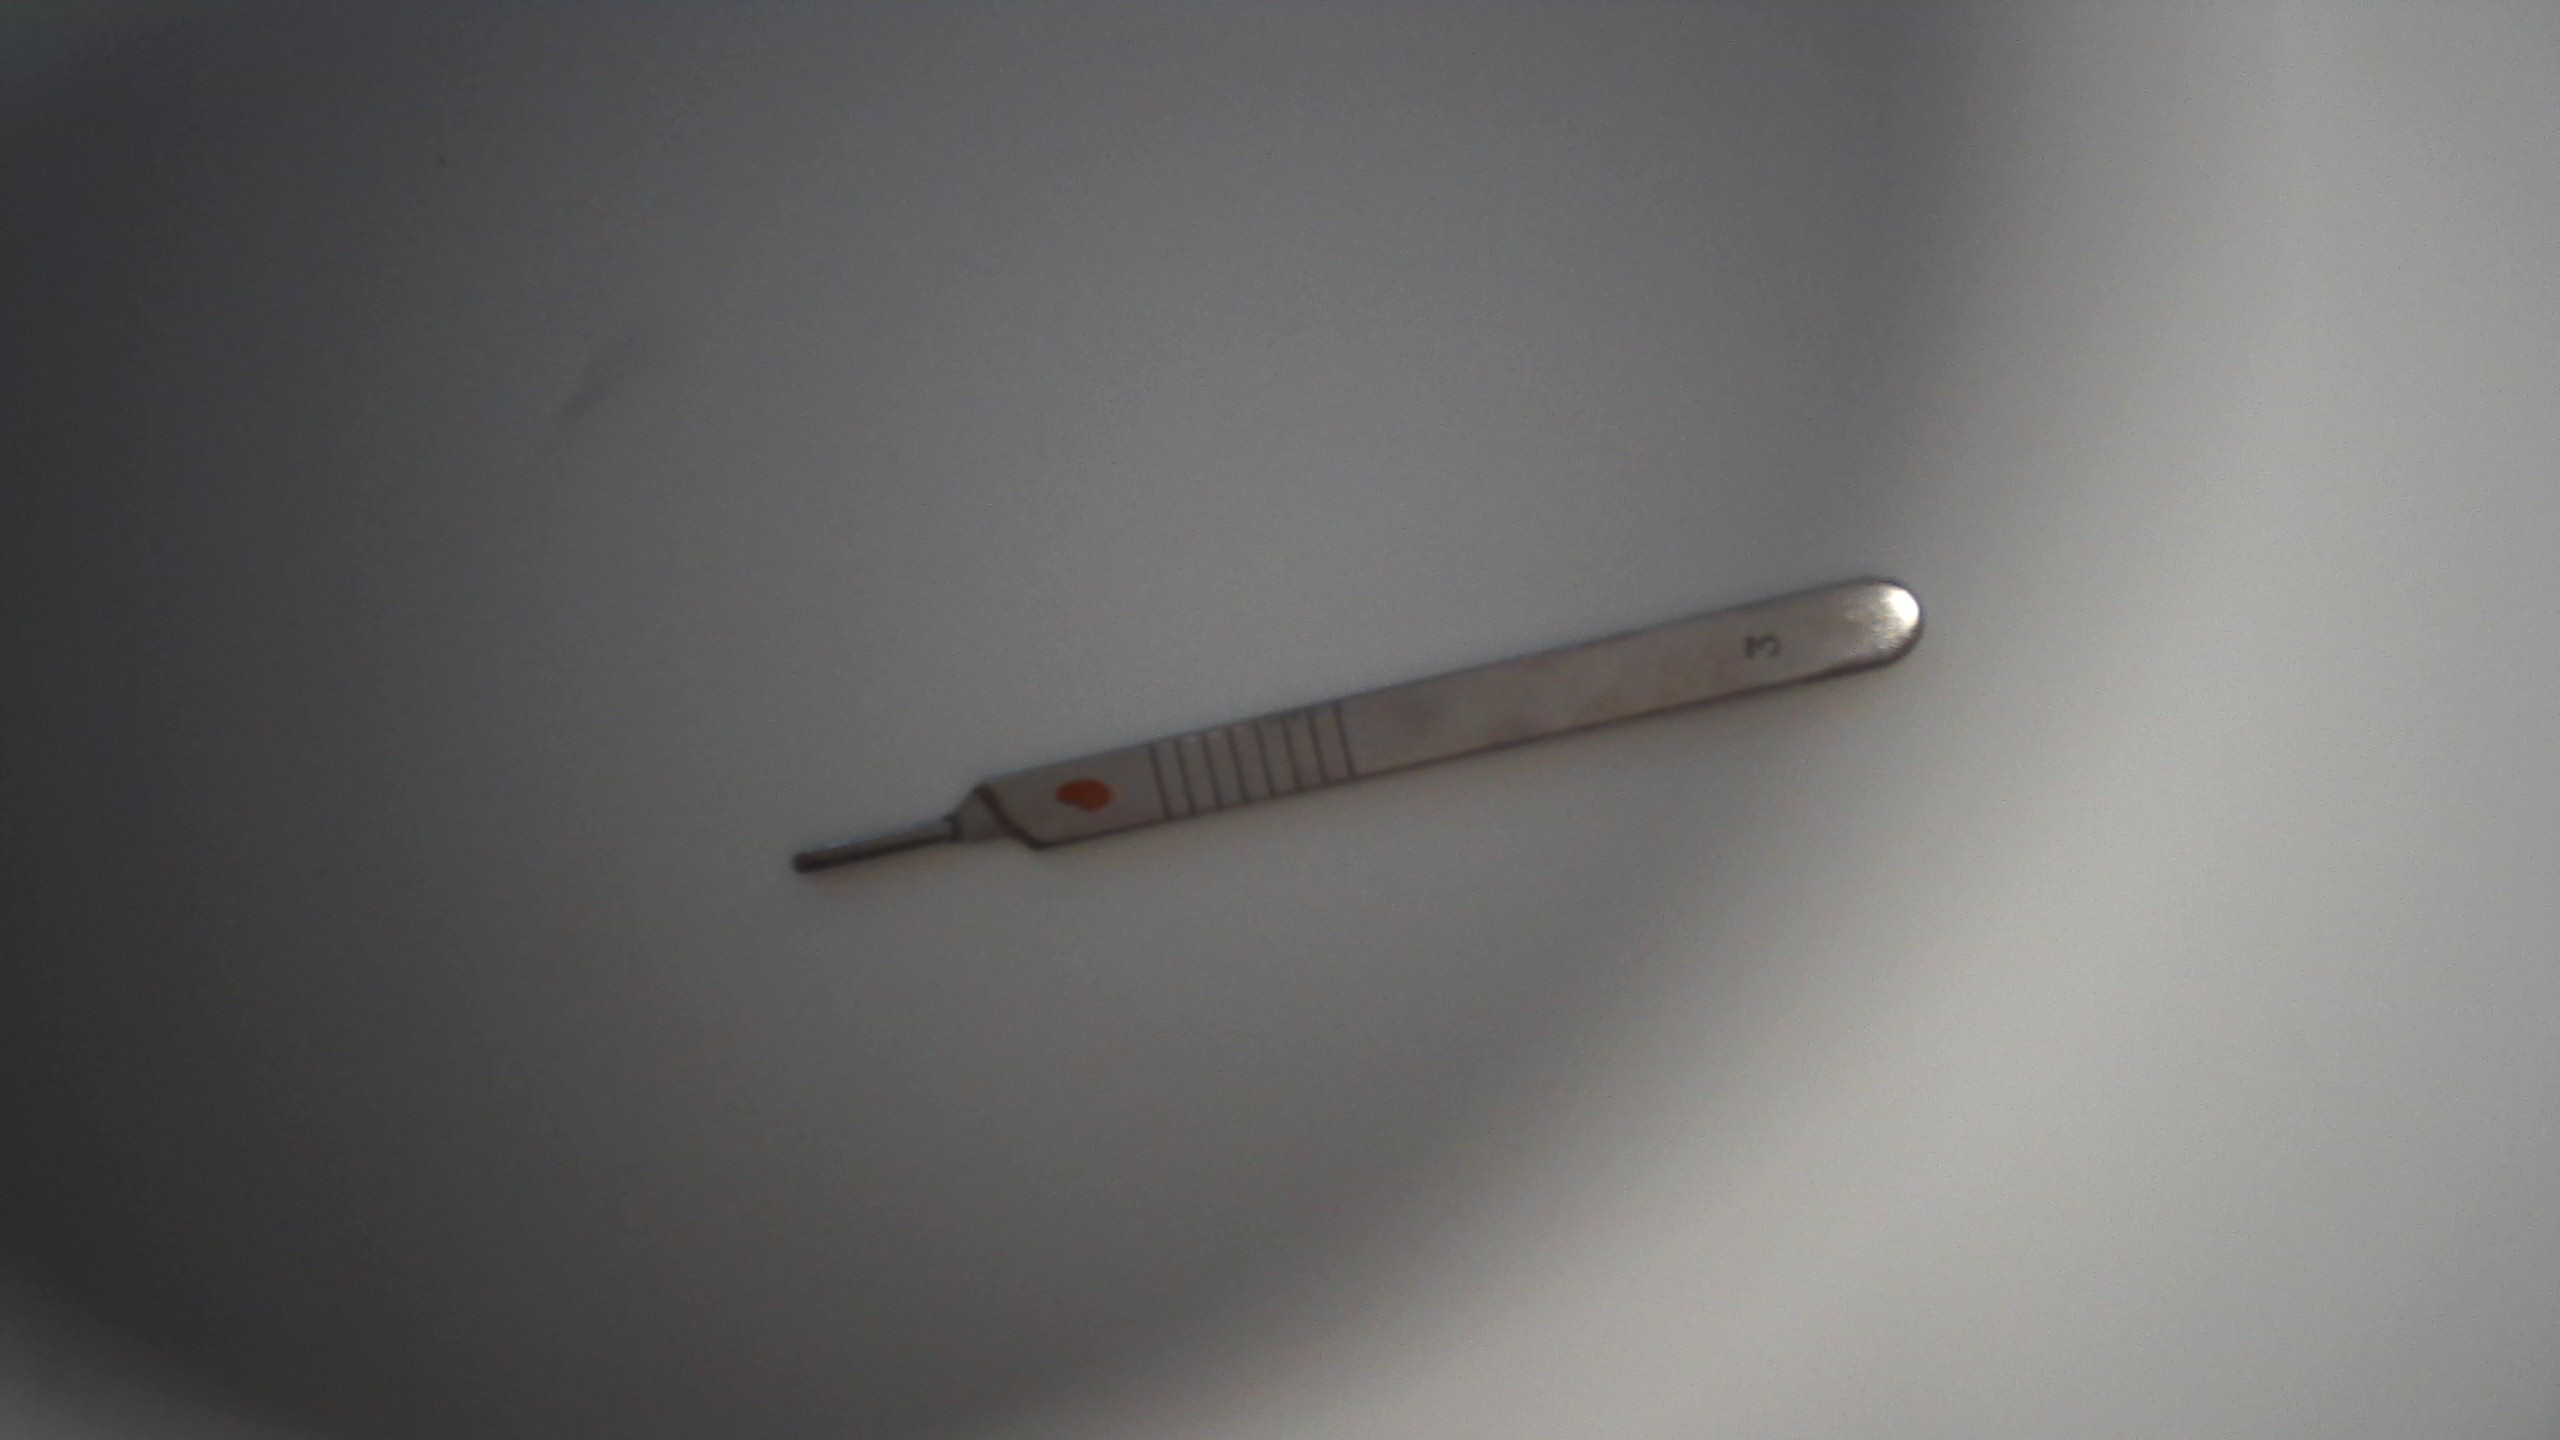Stain: (1029, 777, 1120, 814)
